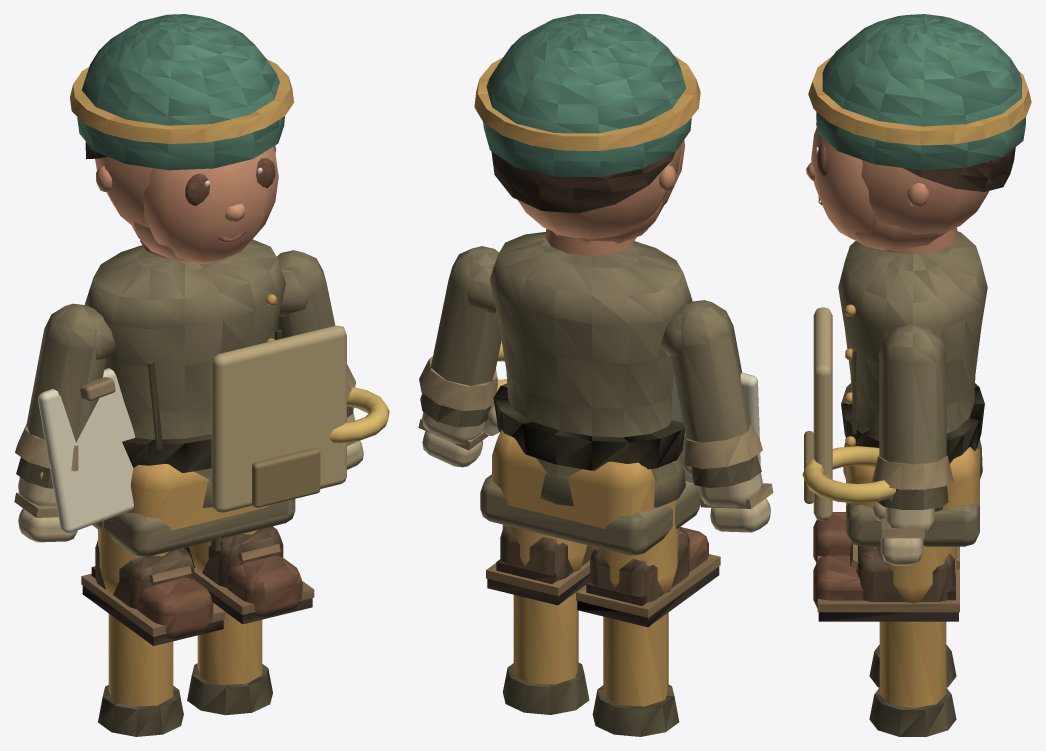
File: han-seojun.glb
The picture shows the model from 3 angles, left to right: view 1: azimuth 30°, elevation 25°; view 2: azimuth 150°, elevation 25°; view 3: azimuth 270°, elevation 25°; orthographic projection.
Visible parts, largest first — view 1: coat, legs, hat, sortingApron, figureDetail, cooperativeLedger, armLeftMesh, trousers, armRightMesh, handLeftMesh, sortingApronPocket, qualitySampleRing (+1 smaller); view 2: coat, legs, hat, armLeftMesh, figureDetail, armRightMesh, trousers, handLeftMesh, handRightMesh, cooperativeLedger, neck; view 3: hat, coat, legs, figureDetail, armRightMesh, handRightMesh, sortingApron, qualitySampleRing, trousers, neck, sortingApronPocket.
Part boxes in pixels (bbox=[...]): coat: bbox=[85, 239, 295, 556]; legs: bbox=[81, 521, 314, 736]; hat: bbox=[70, 14, 294, 170]; sortingApron: bbox=[211, 325, 346, 512]; figureDetail: bbox=[85, 142, 278, 263]; cooperativeLedger: bbox=[38, 368, 135, 533]; armLeftMesh: bbox=[16, 303, 115, 488]; trousers: bbox=[127, 463, 267, 551]; armRightMesh: bbox=[276, 250, 353, 417]; handLeftMesh: bbox=[14, 424, 78, 542]; sortingApronPocket: bbox=[252, 448, 320, 507]; qualitySampleRing: bbox=[329, 387, 389, 443]; coat: bbox=[480, 232, 700, 555]; legs: bbox=[486, 461, 720, 736]; hat: bbox=[474, 14, 700, 177]; armLeftMesh: bbox=[661, 300, 761, 487]; figureDetail: bbox=[491, 140, 684, 243]; armRightMesh: bbox=[420, 246, 501, 427]; trousers: bbox=[492, 429, 686, 528]; handLeftMesh: bbox=[682, 423, 773, 532]; handRightMesh: bbox=[418, 356, 499, 467]; cooperativeLedger: bbox=[671, 372, 760, 484]; neck: bbox=[545, 229, 636, 256]; hat: bbox=[808, 14, 1031, 169]; coat: bbox=[838, 231, 987, 546]; legs: bbox=[813, 512, 959, 736]; figureDetail: bbox=[806, 122, 1015, 250]; armRightMesh: bbox=[878, 324, 948, 509]; handRightMesh: bbox=[872, 456, 953, 565]; sortingApron: bbox=[813, 307, 832, 521]; qualitySampleRing: bbox=[802, 446, 895, 503]; trousers: bbox=[846, 447, 979, 510]; neck: bbox=[884, 227, 957, 254]; sortingApronPocket: bbox=[804, 431, 813, 503].
Bounding box in the file's own units: 1.11 × 2.2 × 0.6631.
